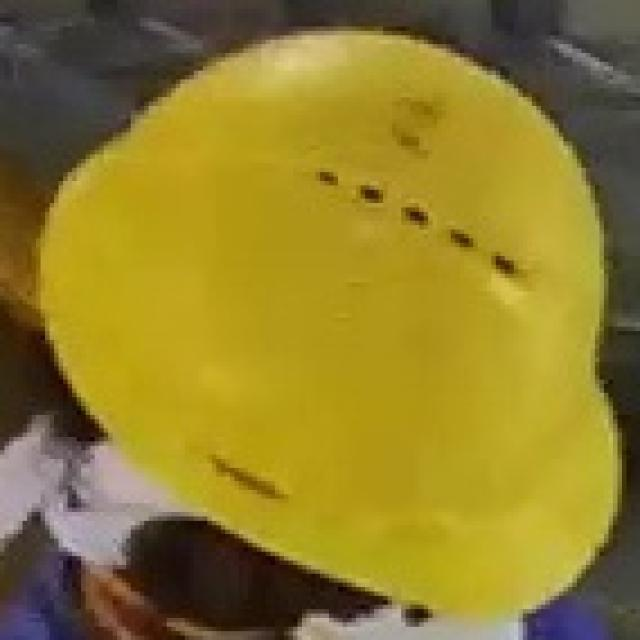yellow helmet: (36, 23, 621, 640)
